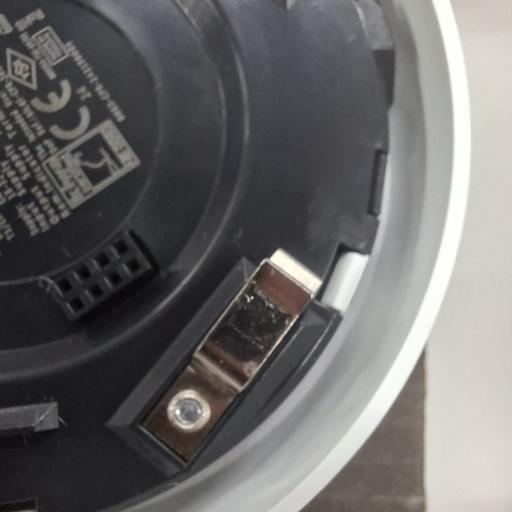yayli: (136, 251, 318, 464)
